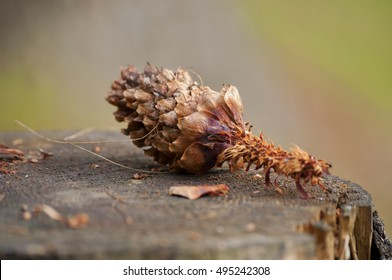Pc: (103, 65, 244, 178)
